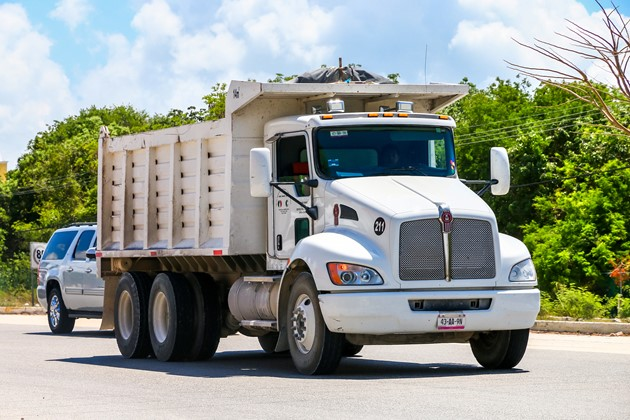truck: (97, 85, 546, 363)
